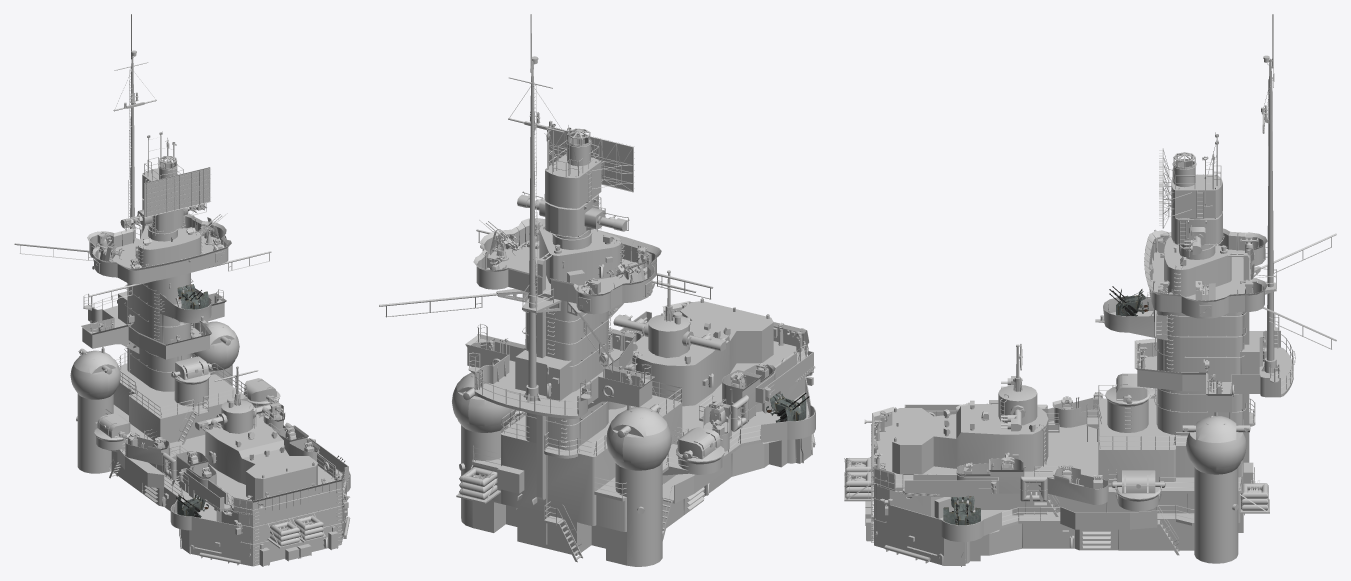
File: leida01.FBX
3 renders of one model, left to right at view 1: azimuth 30°, elevation 25°; view 2: azimuth 150°, elevation 25°; view 3: azimuth 270°, elevation 25°, orthographic. The views are drawn at different scales.
Visible parts, largest first — view 1: leida01; view 2: leida01; view 3: leida01.
Part boxes in pixels (box(x1,y1,x2,y2)): leida01: box(14, 14, 350, 566); leida01: box(379, 14, 815, 566); leida01: box(844, 14, 1336, 566).
Size of the model in its own units: 73.79 by 163 by 144.
